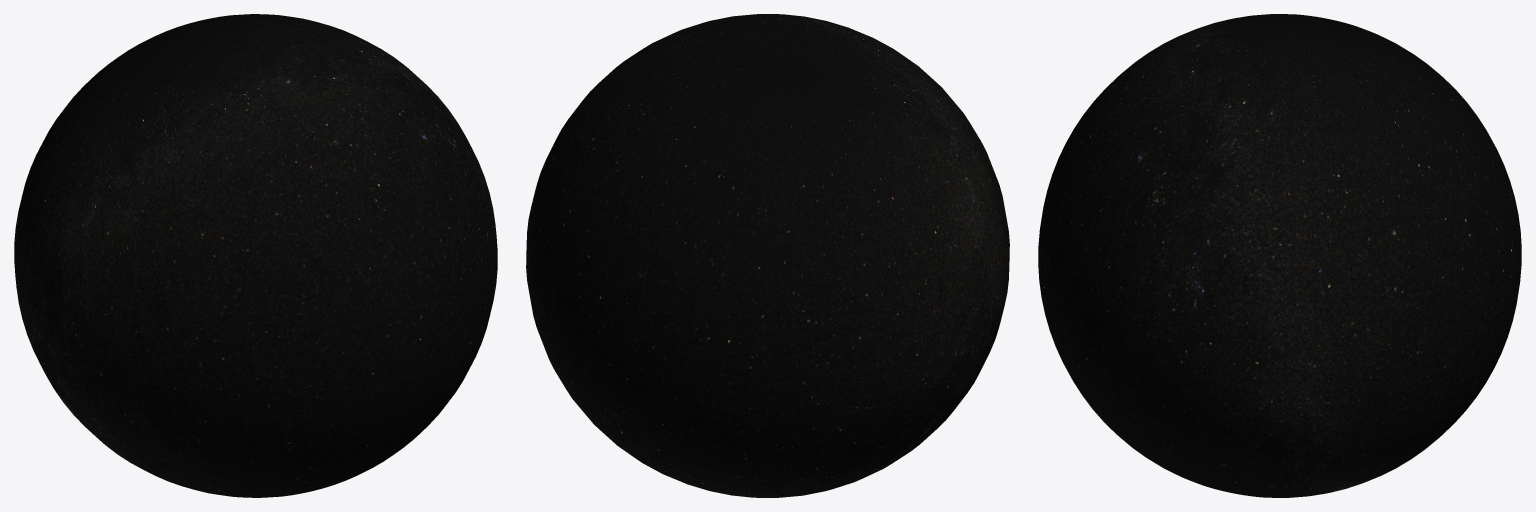
The model's file is stars2.obj.
3 renders of one model, left to right at view 1: azimuth 30°, elevation 25°; view 2: azimuth 150°, elevation 25°; view 3: azimuth 270°, elevation 25°, orthographic.
Visible parts, largest first — view 1: Plane; view 2: Plane; view 3: Plane.
Boxes of the visible parts, x1,y1,x2,y2 form: Plane: (14, 14, 497, 497); Plane: (526, 14, 1009, 497); Plane: (1038, 14, 1521, 497).
Size of the model in its own units: 2.61 by 2.61 by 2.61.
1 material, 1 textured.
